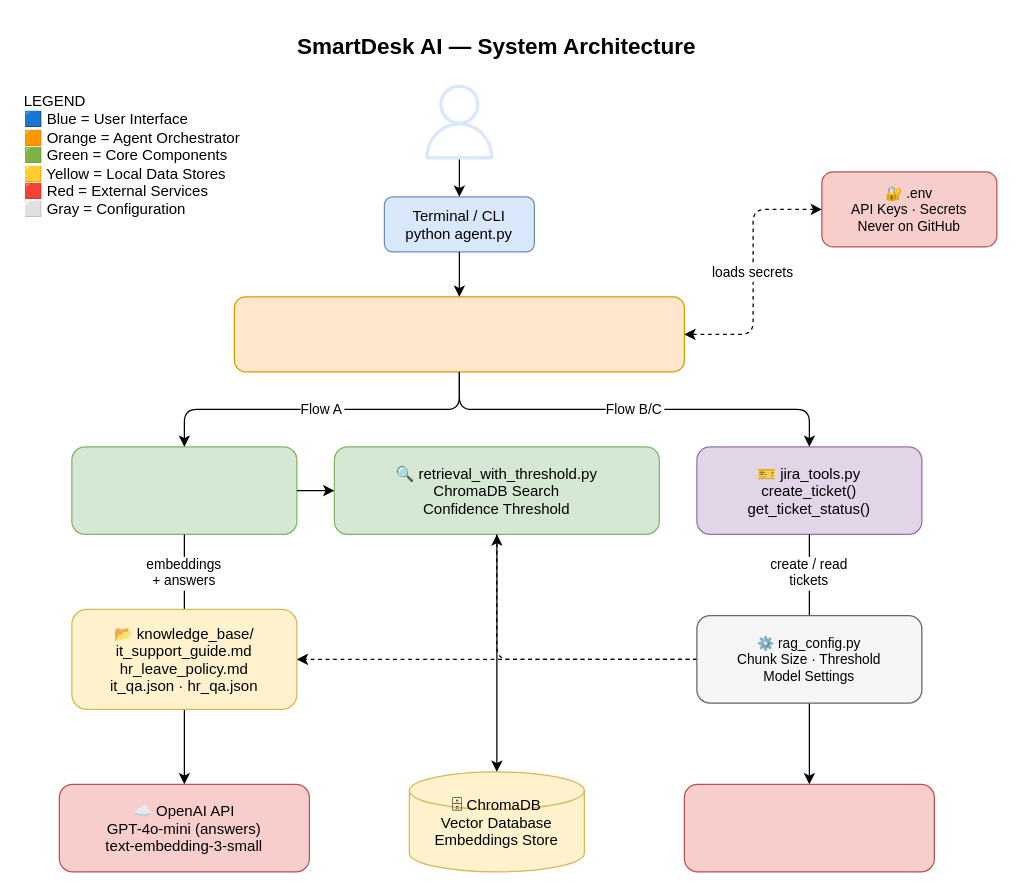
This 1019x894 diagram has some shape labels left out. Here are the shapes that lost their labels. From the top down, the centre of each, then its label:
At [459,121]: "👤 Employee".
At [458,334]: "🧠 agent.py Intent Detection · Session Memory Flow Router · Human-in-the-Loop".
At [184,490]: "📄 rag_chain.py RAG Answer Generator GPT Prompt Builder".
At [808,827]: "☁️ Jira Cloud API Project: SSDAI oe7051.atlassian.net".
